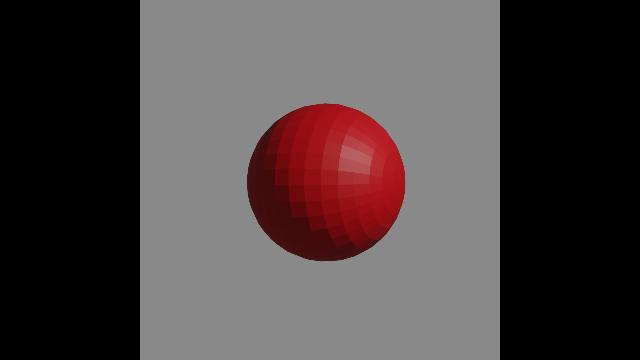Sphere: (245, 94, 410, 268)
